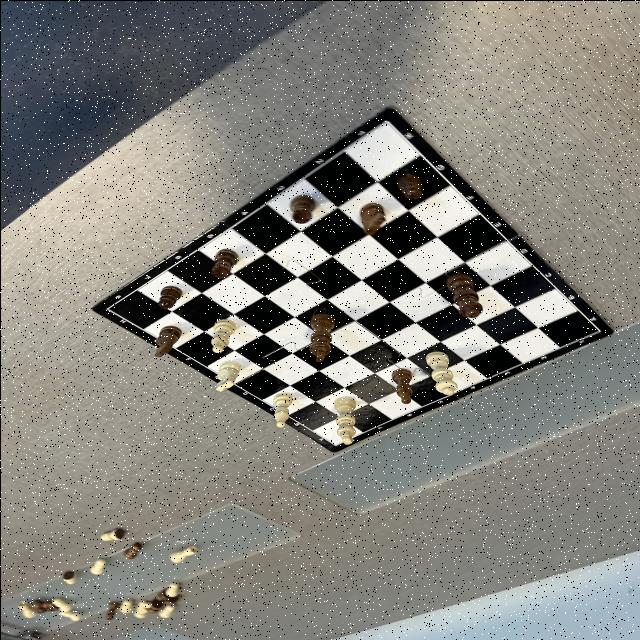Black-Bishop: (390, 368, 412, 403)
Black-King: (308, 312, 334, 362)
Black-Knight: (154, 324, 182, 356), (359, 202, 385, 234)
Black-Pawn: (396, 172, 422, 198), (158, 284, 182, 308)
Black-Queen: (444, 272, 482, 317)
Black-Rook: (210, 248, 238, 278), (288, 194, 314, 224)
White-Bishop: (210, 318, 236, 352), (272, 392, 292, 428)
White-King: (334, 396, 356, 444)
White-Knight: (214, 360, 240, 390)
White-Queen: (424, 350, 457, 394)
